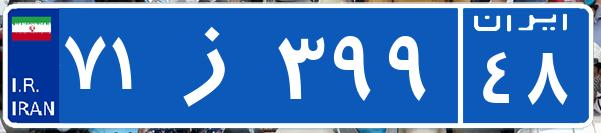1: (110, 28, 158, 105)
3: (273, 28, 330, 110)
4: (475, 38, 525, 113)
7: (57, 26, 110, 107)
8: (525, 38, 570, 115)
9: (385, 28, 445, 110), (330, 28, 385, 110)
ز: (158, 15, 273, 115)
